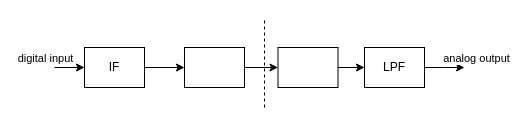
The diagram is 527 pixels wide and 126 high, and some of its shapes have lost their labels. The box of each missing label's shape, as (x1, y1, x2, y2) in pixels:
DAC: (277, 46, 338, 88)
NL: (184, 46, 244, 88)
